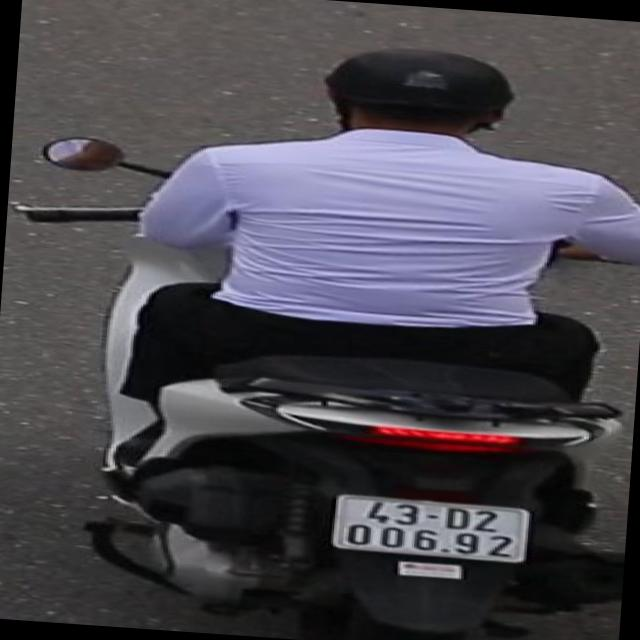LP: (321, 484, 539, 570)
helmet: (307, 32, 526, 166)
